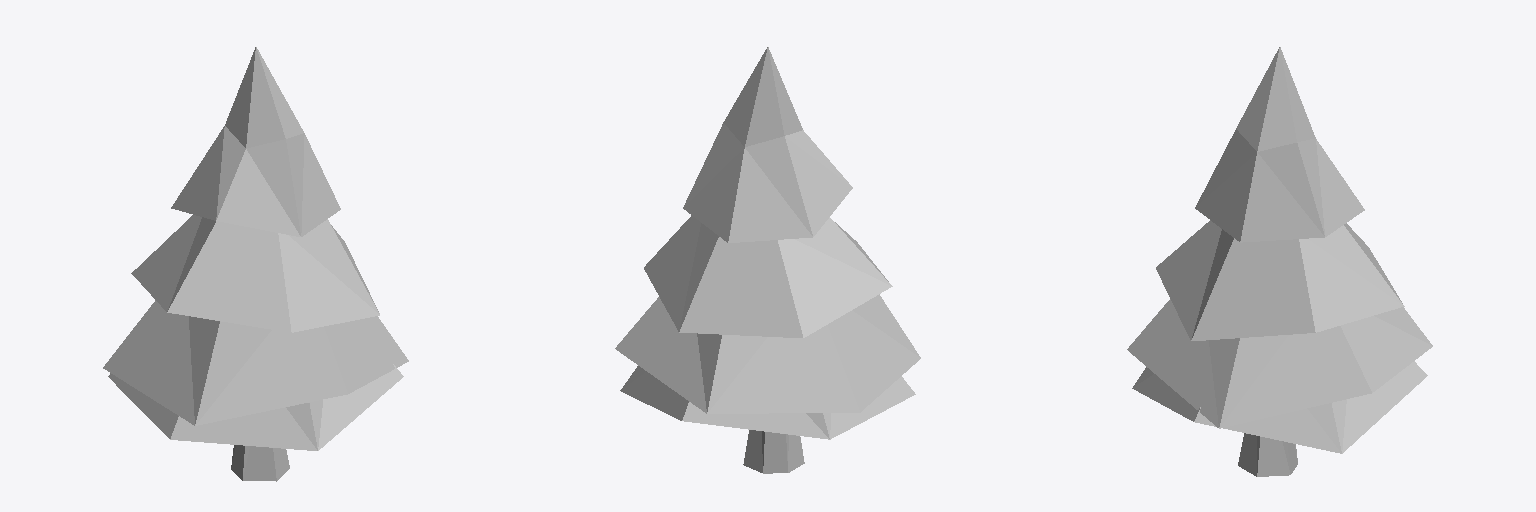
File: Tree4.obj
The picture shows the model from 3 angles: view 1: azimuth 30°, elevation 25°; view 2: azimuth 150°, elevation 25°; view 3: azimuth 270°, elevation 25°; orthographic projection.
Visible parts, largest first — view 1: Object009; view 2: Object009; view 3: Object009.
Boxes of the visible parts, <box> form: Object009: <box>103,47,408,481</box>; Object009: <box>615,47,920,473</box>; Object009: <box>1127,47,1432,476</box>.
Size of the model in its own units: 1.86 by 3.03 by 2.01.